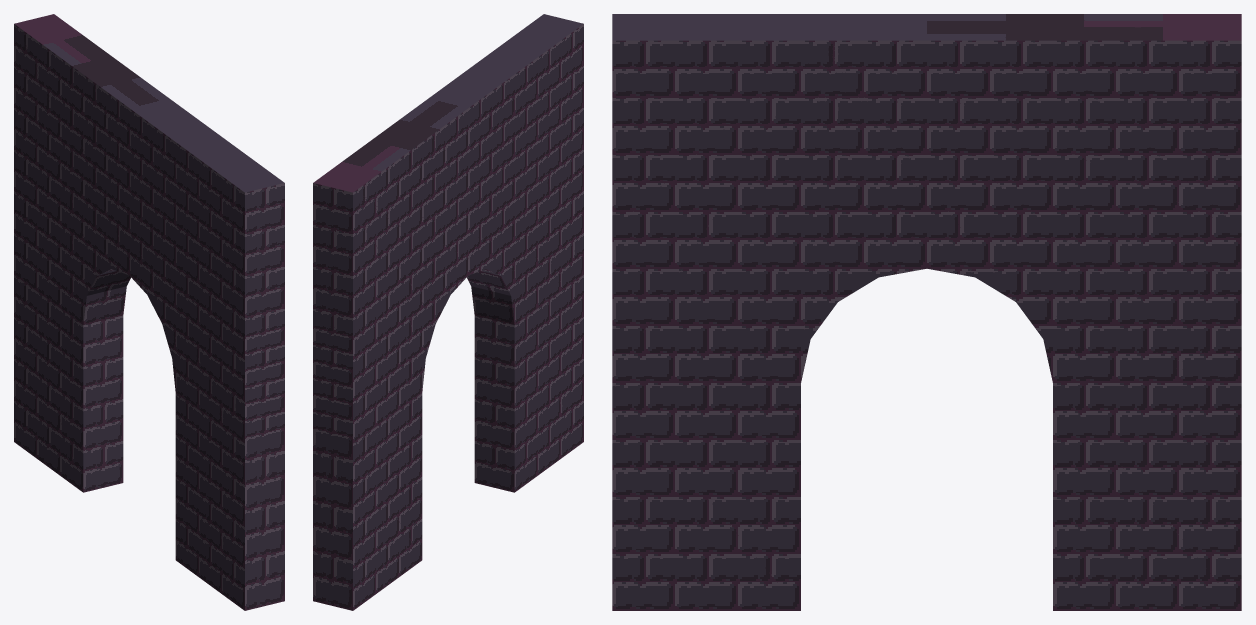
File: Arch.fbx
The picture shows the model from 3 angles, left to right: view 1: azimuth 30°, elevation 25°; view 2: azimuth 150°, elevation 25°; view 3: azimuth 270°, elevation 25°; orthographic projection. The views are drawn at different scales.
Visible parts, largest first — view 1: Wall 10*10*1; view 2: Wall 10*10*1; view 3: Wall 10*10*1.
Part boxes in pixels (box(x1,y1,x2,y2)): Wall 10*10*1: box(14, 14, 284, 610); Wall 10*10*1: box(313, 14, 583, 610); Wall 10*10*1: box(612, 14, 1241, 610).
Bounding box in the file's own units: 100 × 1000 × 1000.
1 material, 1 textured.
